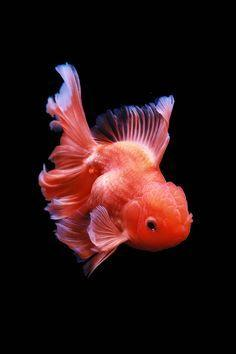goldfish: (25, 71, 215, 285)
